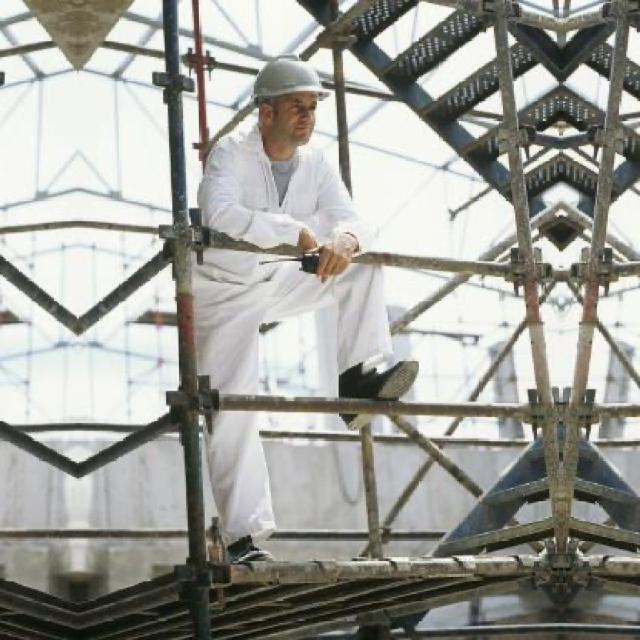con casco: (228, 47, 368, 165)
